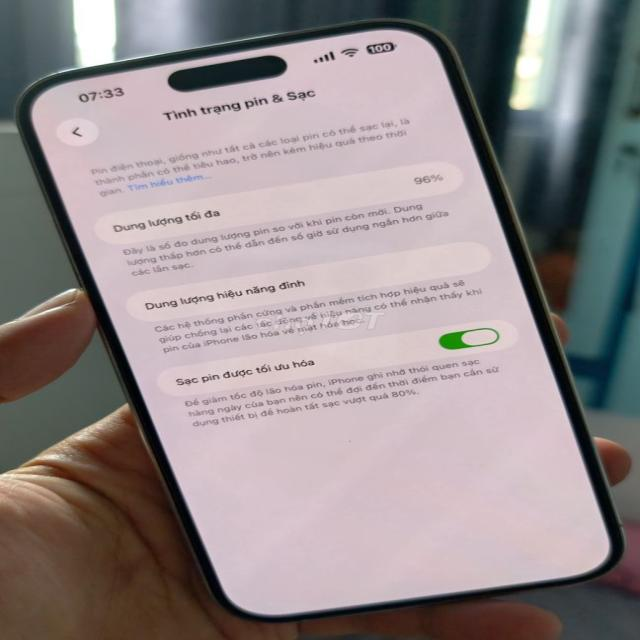gen_14: (16, 18, 629, 616)
